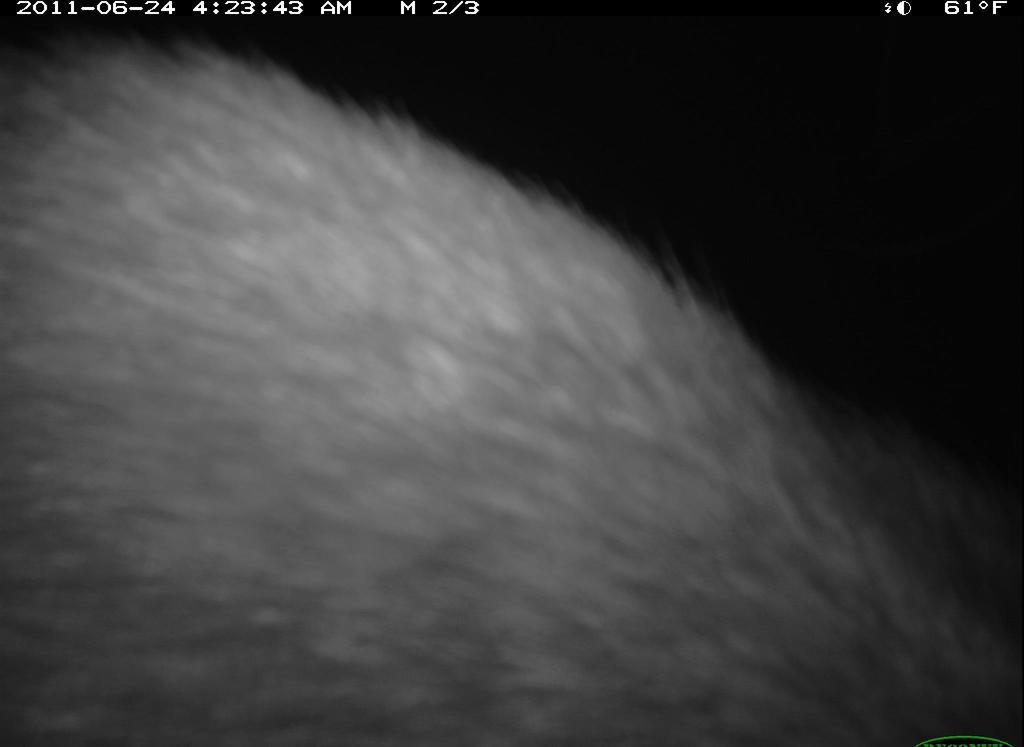raccoon: (12, 17, 1023, 744)
